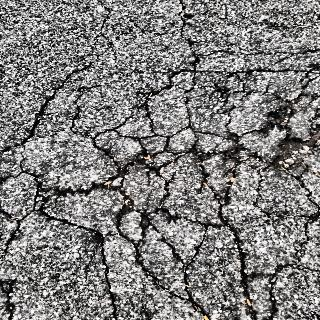alligator-crack: (0, 64, 320, 320)
